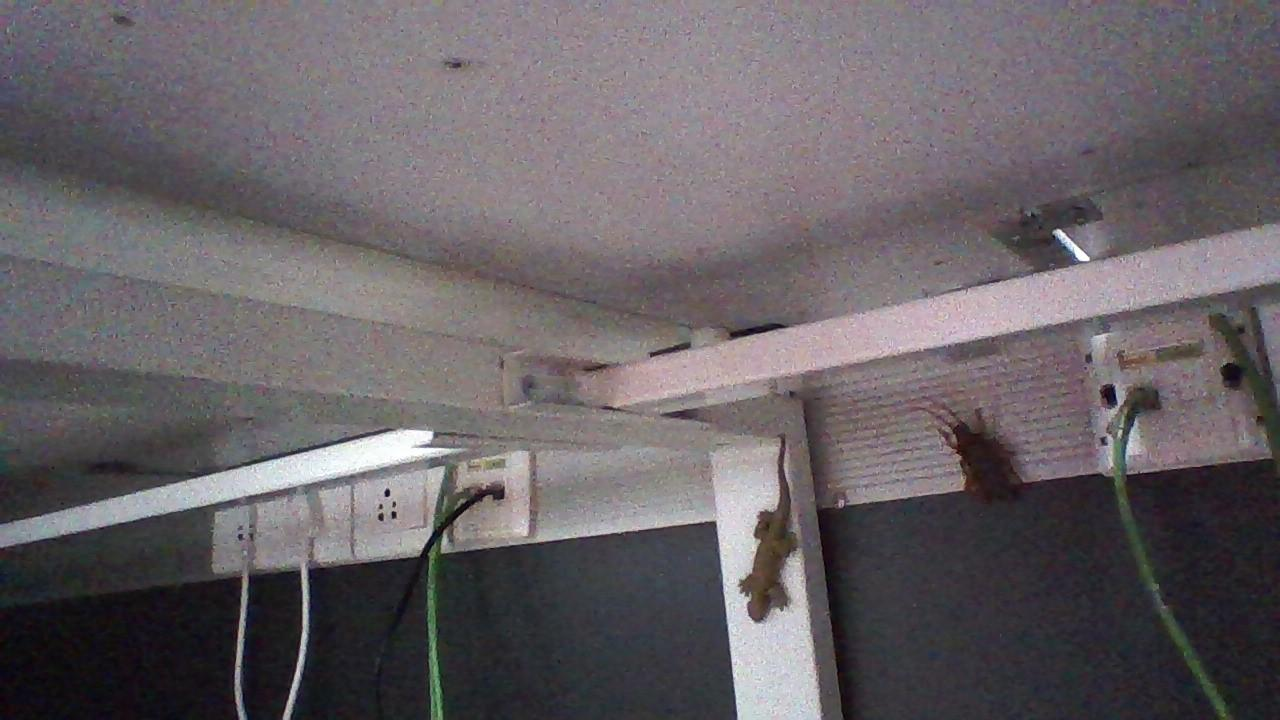cockroach: (889, 382, 1041, 514)
lizard: (729, 415, 806, 632)
